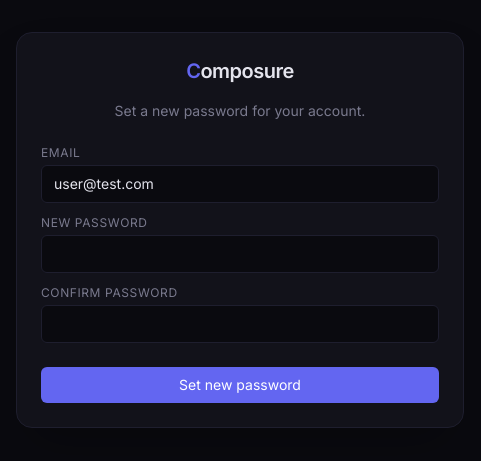
Scenario: AuthEntryView › shows password mismatch warning
Note: First password input is "New password", second is "Confirm password"
Step 1. Type "password123" into the 1st password field → (240, 254), box [41,235,439,273]
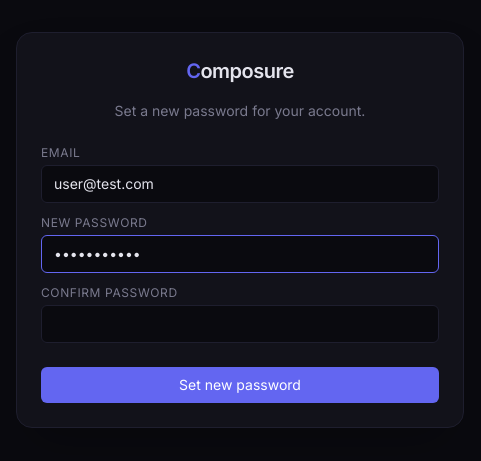
Step 2. Type "password999" into the 2nd password field → (240, 324), box [41,305,439,343]
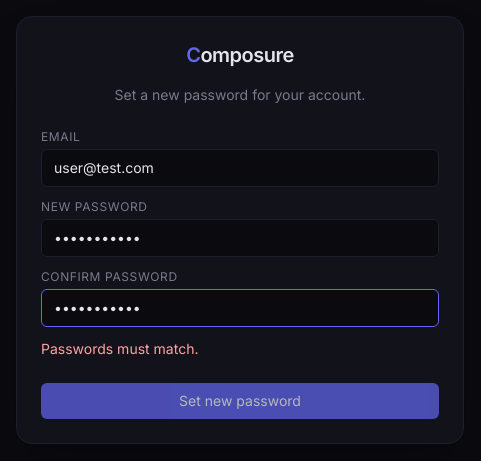
Result: the text "Passwords must match." is shown at [41,340,198,357]
